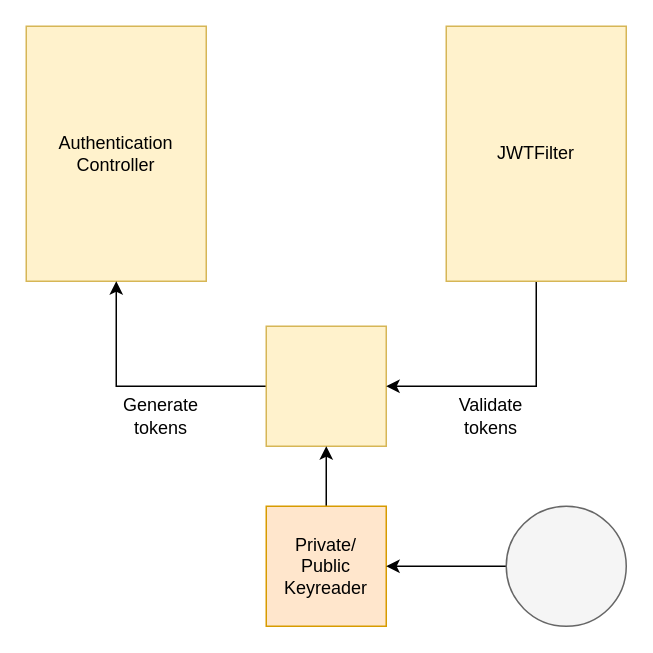
Some shapes in this 653 by 653 pixel diagram are drawn without their labels. Each missing label, with the box of its shape:
JWTUtil: (265, 325, 386, 446)
Resources: (505, 505, 626, 626)
